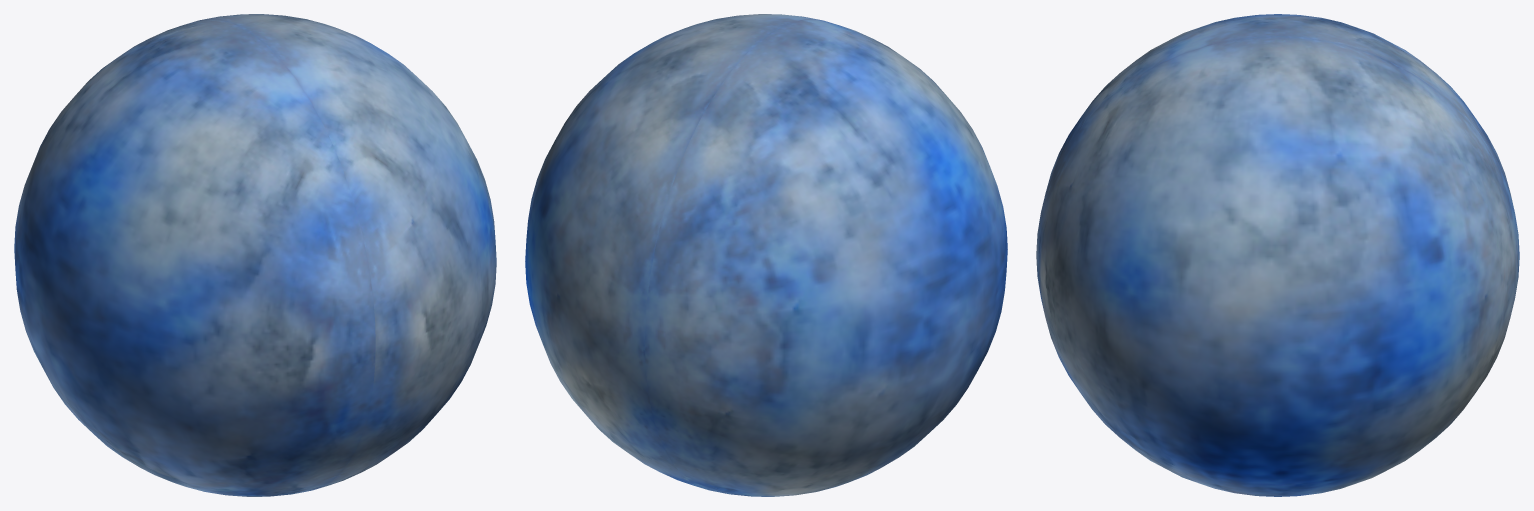
Rendered from waterplanet.fbx.
3 views of the same model, side by side, from view 1: azimuth 30°, elevation 25°; view 2: azimuth 150°, elevation 25°; view 3: azimuth 270°, elevation 25° (orthographic).
Visible parts, largest first — view 1: Sphere; view 2: Sphere; view 3: Sphere.
Boxes of the visible parts, x1,y1,x2,y2 form: Sphere: (14, 14, 496, 496); Sphere: (525, 14, 1007, 496); Sphere: (1036, 14, 1519, 496).
Size of the model in its own units: 2 by 2 by 2.
